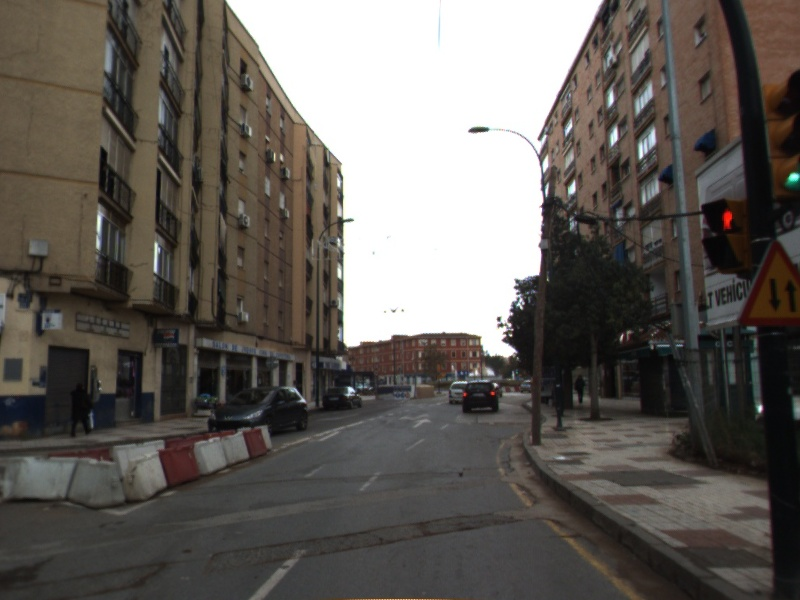STRAIGHT: (411, 417, 435, 430)
STRAIGHT_LEFT: (396, 411, 433, 423)
